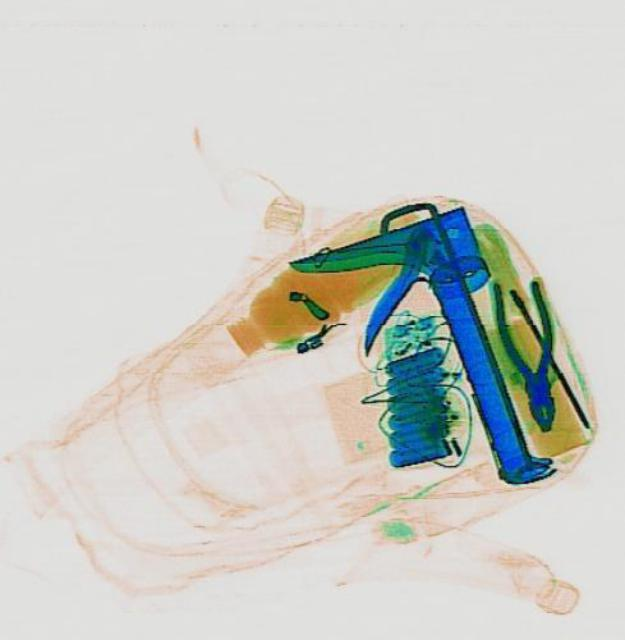Knife: (288, 200, 565, 528)
Pliers: (482, 274, 578, 436)
